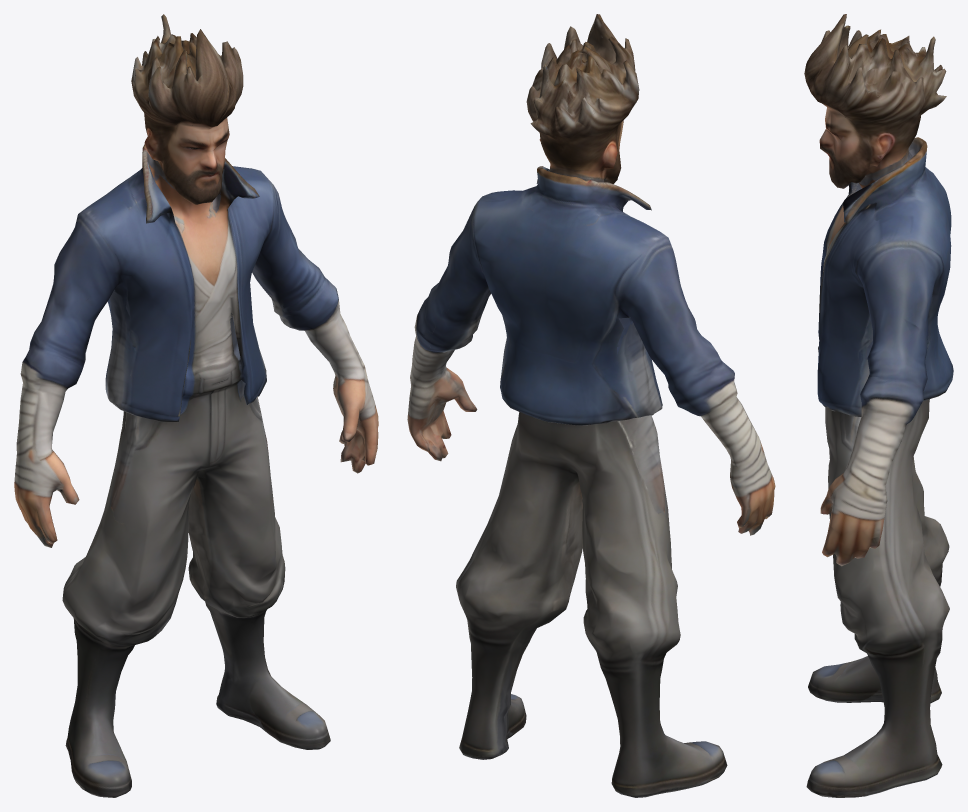
The model's file is Warrior_Spirit_1006121653_texture.glb.
3 renders of one model, left to right at view 1: azimuth 30°, elevation 25°; view 2: azimuth 150°, elevation 25°; view 3: azimuth 270°, elevation 25°, orthographic.
Size of the model in its own units: 1 by 1.99 by 0.3703.
Materials: 1 (1 with a texture image).
